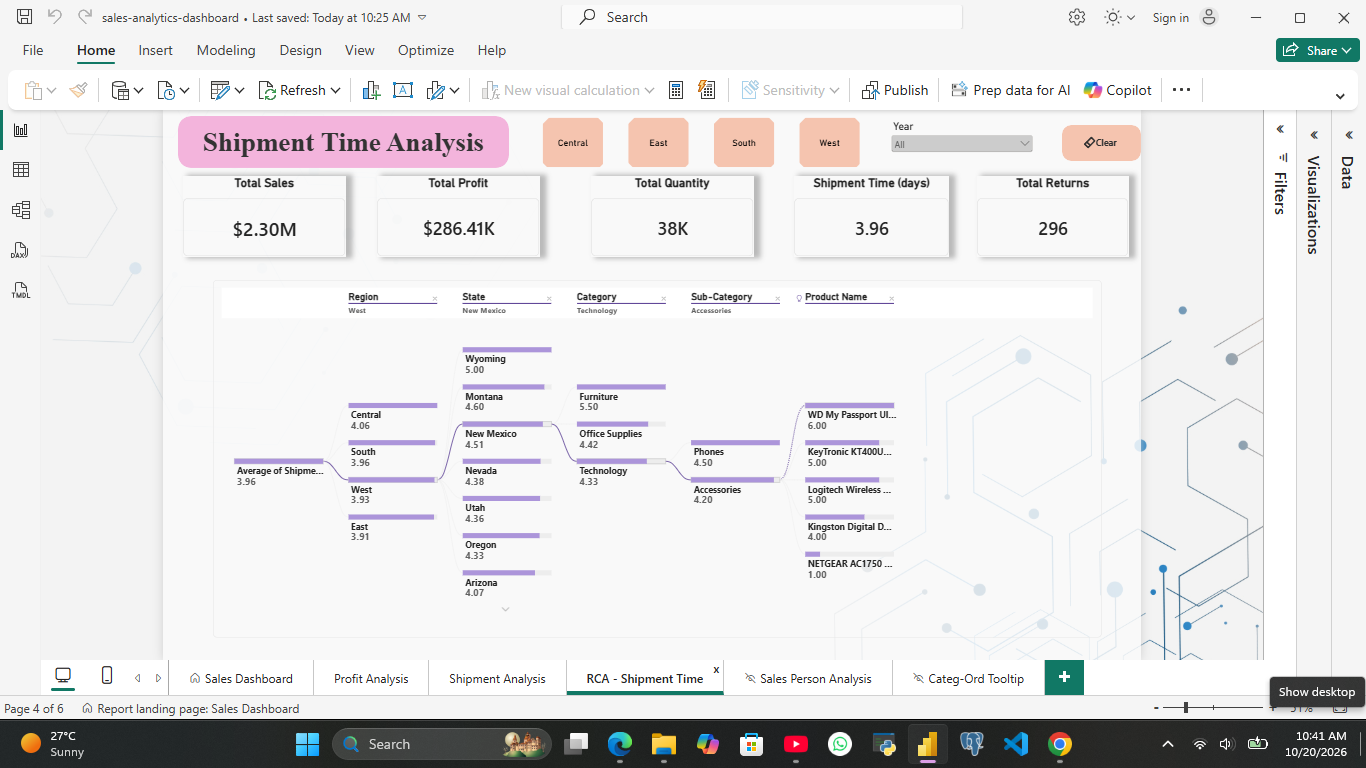

This screenshot's page, from the dashboard's own definition file:
{"tool":"powerbi","page":{"name":"RCA - Shipment Time","canvas":[1920,1080],"ordinal":3},"visuals":[{"type":"cardVisual","title":"Total Sales","fields":{"Data":["Sum(Orders.Sales)"]},"box":[39.7,130,319.6,158.7],"z":1000},{"type":"cardVisual","title":"Total Profit","fields":{"Data":["Sum(Orders.Profit)"]},"box":[421,130,319.6,158.7],"z":2000},{"type":"cardVisual","title":"Total Quantity","fields":{"Data":["Sum(Orders.Quantity)"]},"box":[839.8,130,319.6,158.7],"z":3000},{"type":"cardVisual","title":"Shipment Time (days)","fields":{"Data":["Avg(Orders.Shipment Time)"]},"box":[1238.7,130,304.2,158.7],"z":4000},{"type":"cardVisual","title":"Total Returns","fields":{"Data":["CountNonNull(Return_data.Order ID)"]},"box":[1598,130,297.6,158.7],"z":5000},{"type":"advancedSlicerVisual","fields":{"Values":["SalesPerson.Region"]},"box":[704.9,0,704.9,129.6],"z":6000},{"type":"slicer","title":"Year","fields":{"Values":["Orders.Order Date.Variation.Date Hierarchy.Year"]},"box":[1425.6,19.6,286.7,110],"z":7000},{"type":"shape","box":[29.5,11.8,650,102.1],"z":8000},{"type":"actionButton","box":[1765.3,29.5,155.1,70.7],"z":9000},{"type":"decompositionTreeVisual","fields":{"Analyze":["Avg(Orders.Shipment Time)"],"ExplainBy":["Orders.Region","Orders.State","Orders.Category","Orders.Sub-Category","Orders.Product Name"]},"box":[99.1,334.5,1744.5,701.9],"z":10001}]}

Visuals, with their boxes on the page's 1920x1080 design canvas (x1, y1, x2, y2). These are canvas units, not pixel positions in the 1366x768 screenshot, which may show the page scaled, cropped or inside an application window:
"Total Sales" cardVisual: [left=40, top=130, right=359, bottom=289]
"Total Profit" cardVisual: [left=421, top=130, right=741, bottom=289]
"Total Quantity" cardVisual: [left=840, top=130, right=1159, bottom=289]
"Shipment Time (days)" cardVisual: [left=1239, top=130, right=1543, bottom=289]
"Total Returns" cardVisual: [left=1598, top=130, right=1896, bottom=289]
advancedSlicerVisual - SalesPerson.Region: [left=705, top=0, right=1410, bottom=130]
"Year" slicer: [left=1426, top=20, right=1712, bottom=130]
shape: [left=30, top=12, right=680, bottom=114]
actionButton: [left=1765, top=30, right=1920, bottom=100]
decompositionTreeVisual - Avg(Orders.Shipment Time) x Orders.Region: [left=99, top=334, right=1844, bottom=1036]
